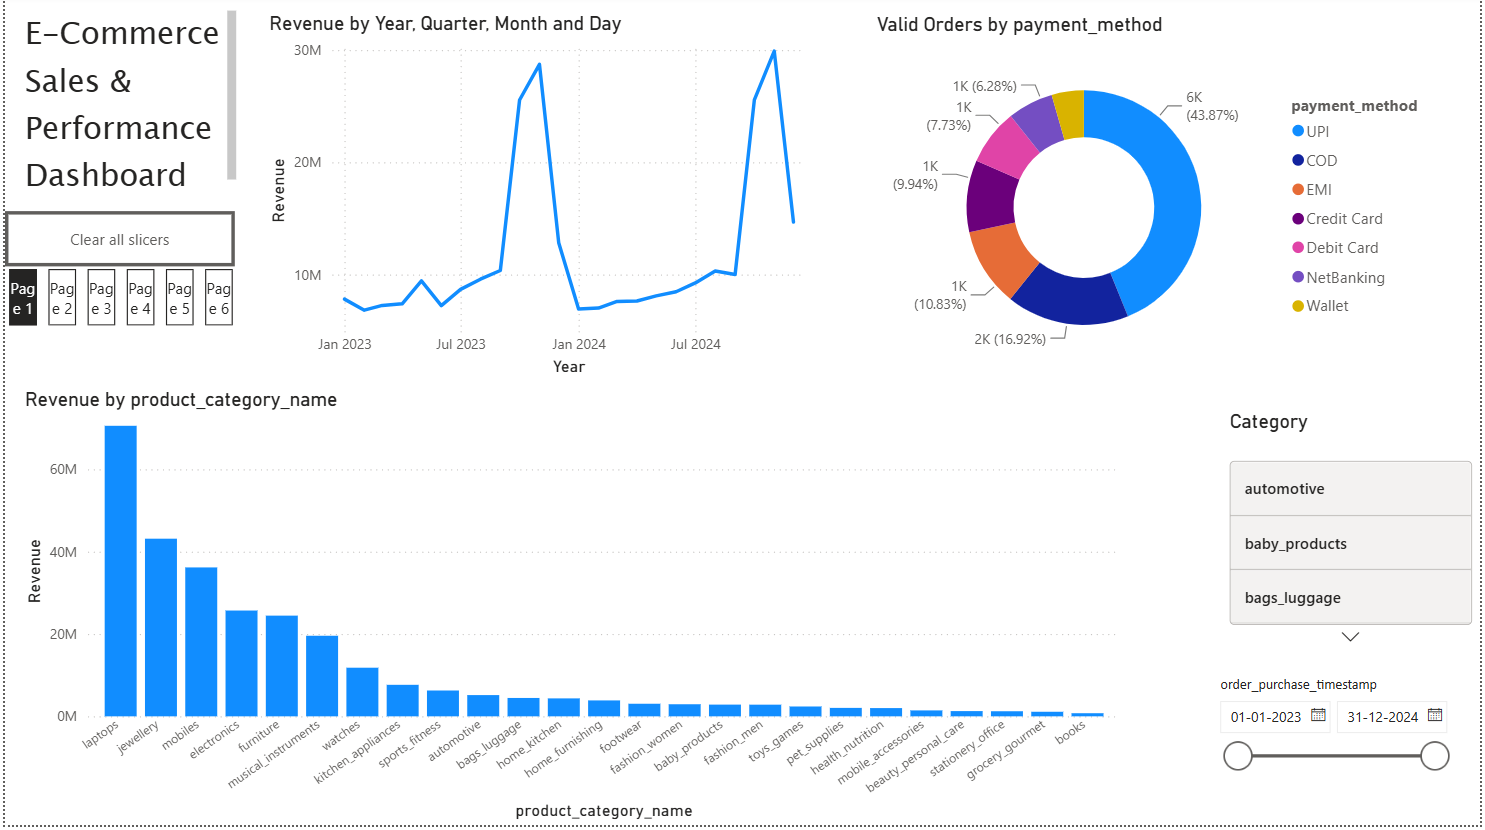

What the dashboard file says about the page in this screenshot:
{"tool":"powerbi","page":{"name":"Page 1","canvas":[1280,720],"ordinal":0},"visuals":[{"type":"clusteredColumnChart","fields":{"Y":["orders.Revenue"],"Category":["products.product_category_name"]},"box":[12.1,340.1,959.9,379.4],"z":0},{"type":"slicer","fields":{"Values":["customers.customer_state"]},"box":[343.2,171.6,200.6,80.8],"z":1000},{"type":"textbox","box":[12.6,8.8,193,165.3],"z":2000},{"type":"cardVisual","title":"Category","fields":{"Rows":["products.product_category_name"]},"box":[1057.1,360.7,220.3,211.4],"z":3000},{"type":"slicer","fields":{"Values":["orders.order_purchase_timestamp"]},"box":[1041.1,586.3,220.3,119],"z":4000},{"type":"donutChart","fields":{"Category":["payments.payment_method"],"Y":["orders.Valid Orders"]},"box":[751.5,16,495.7,318],"z":7000},{"type":"lineChart","fields":{"Y":["orders.Revenue"],"Category":["orders.order_year_month.Variation.Date Hierarchy.Year","orders.order_year_month.Variation.Date Hierarchy.Quarter","orders.order_year_month.Variation.Date Hierarchy.Month","orders.order_year_month.Variation.Date Hierarchy.Day"]},"box":[223.9,14.2,486.8,319.8],"z":11000},{"type":"actionButton","box":[0,188,199.4,47.9],"z":12000},{"type":"pageNavigator","box":[3.8,238.3,199.9,50],"z":13000}]}

Visuals, with their boxes in screenshot pixels (x1, y1, x2, y2), scaled from the page's 1280x720 canvas onto the 1485x830 screenshot:
clusteredColumnChart - orders.Revenue x products.product_category_name: x1=14, y1=392, x2=1128, y2=829
slicer - customers.customer_state: x1=398, y1=198, x2=631, y2=291
textbox: x1=15, y1=10, x2=239, y2=201
"Category" cardVisual: x1=1226, y1=416, x2=1482, y2=660
slicer - orders.order_purchase_timestamp: x1=1208, y1=676, x2=1463, y2=813
donutChart - payments.payment_method x orders.Valid Orders: x1=872, y1=18, x2=1447, y2=385
lineChart - orders.Revenue x orders.order_year_month.Variation.Date Hierarchy.Year: x1=260, y1=16, x2=825, y2=385
actionButton: x1=0, y1=217, x2=231, y2=272
pageNavigator: x1=4, y1=275, x2=236, y2=332
